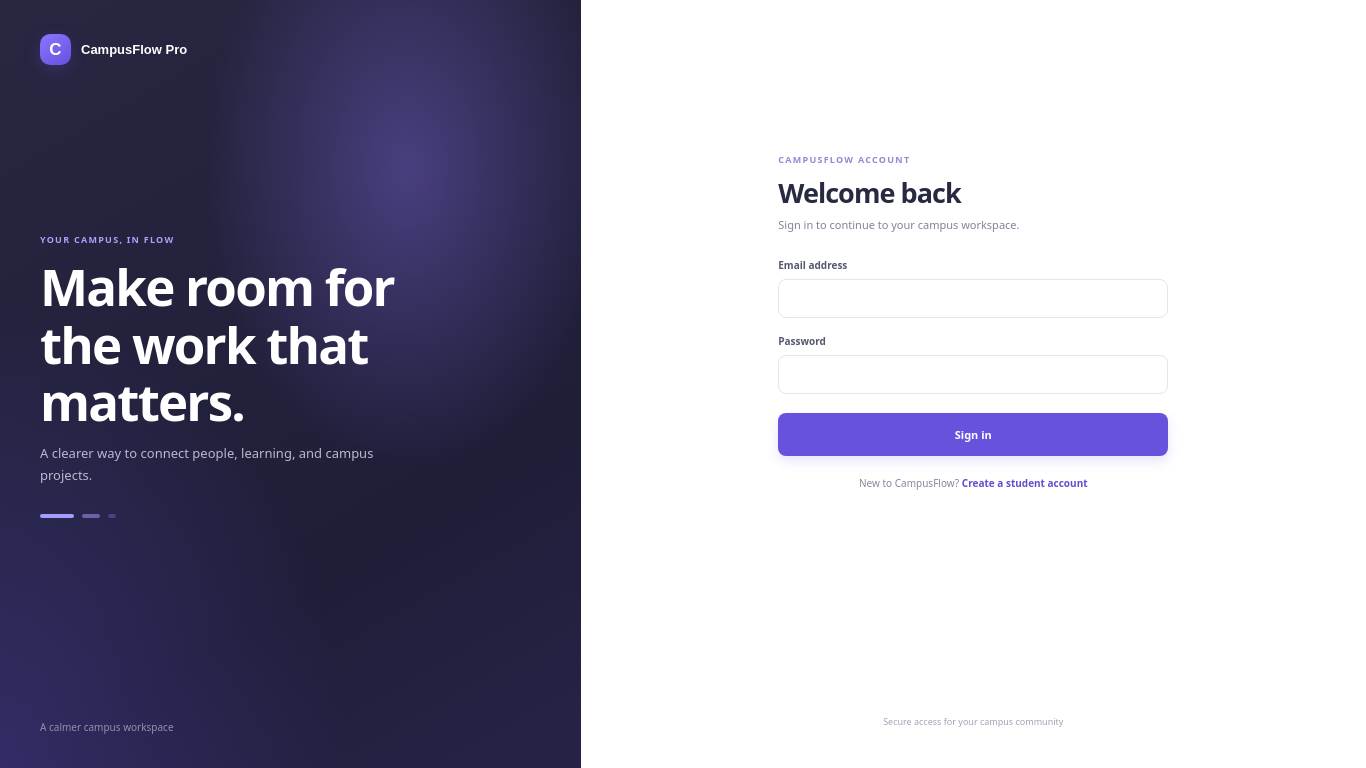
Test: authentication pages and session › shows login failure feedback without entering an authenticated session
The image size is (1366, 768).
In the field labelled "Email address": (973, 298) top-left (778, 279), bottom-right (1168, 318), type "asha@example.edu"
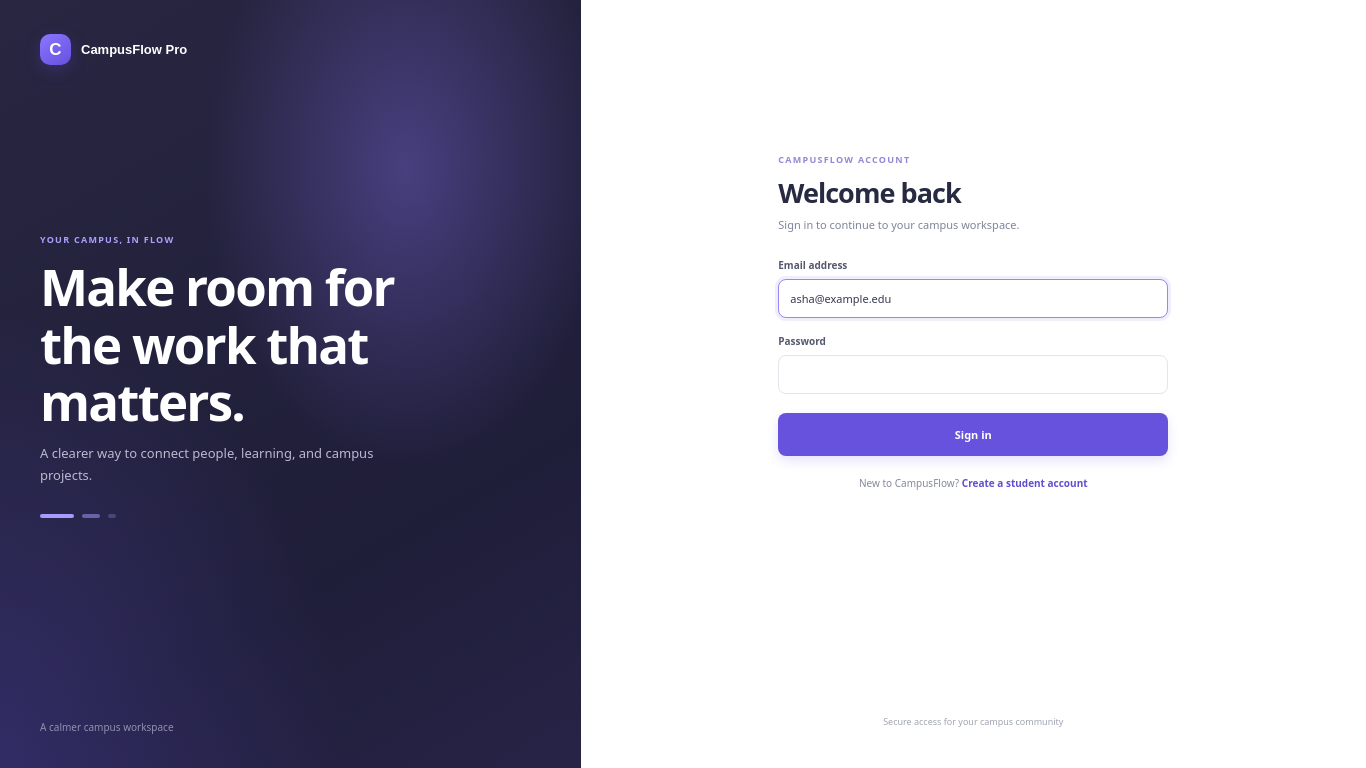
In the password field labelled "Password": (973, 374) top-left (778, 355), bottom-right (1168, 394), type "wrong-password"
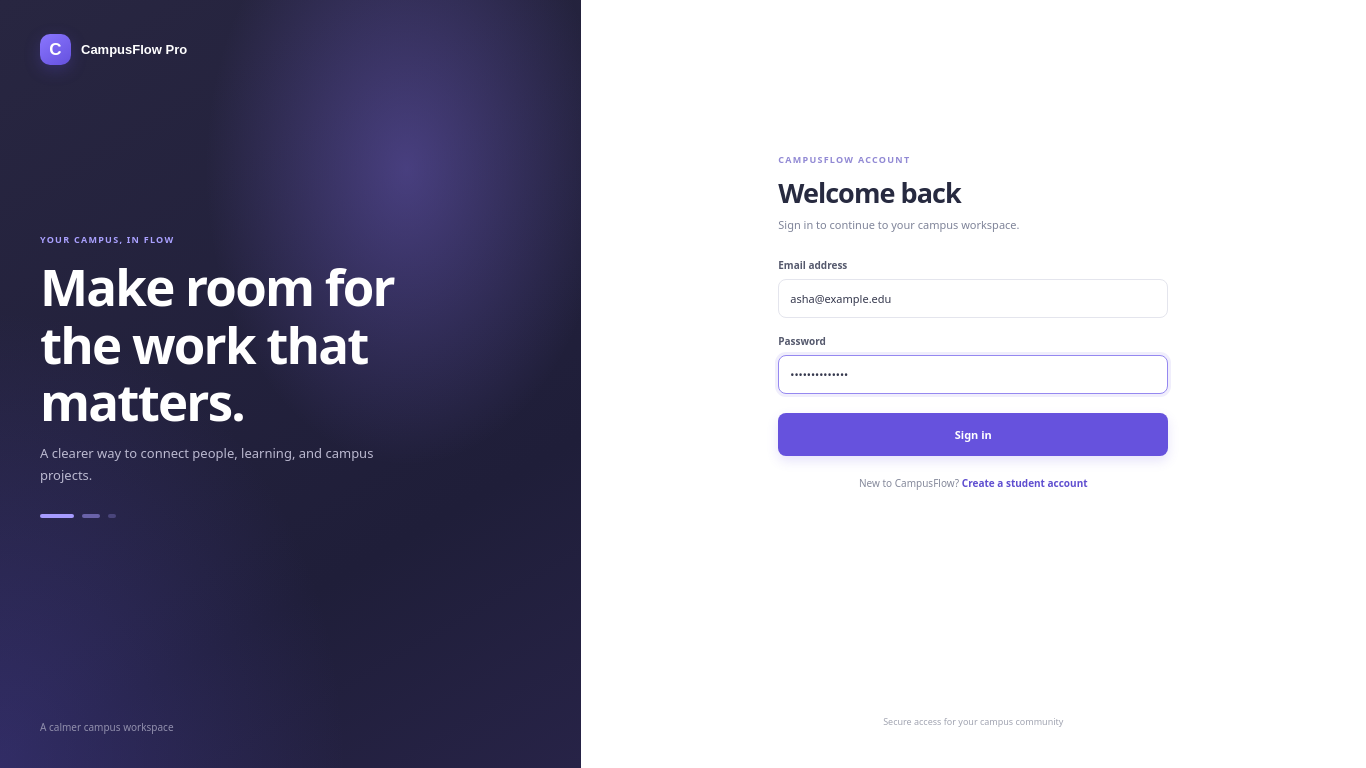
Click the button "Sign in": click(973, 434) top-left (778, 413), bottom-right (1168, 456)
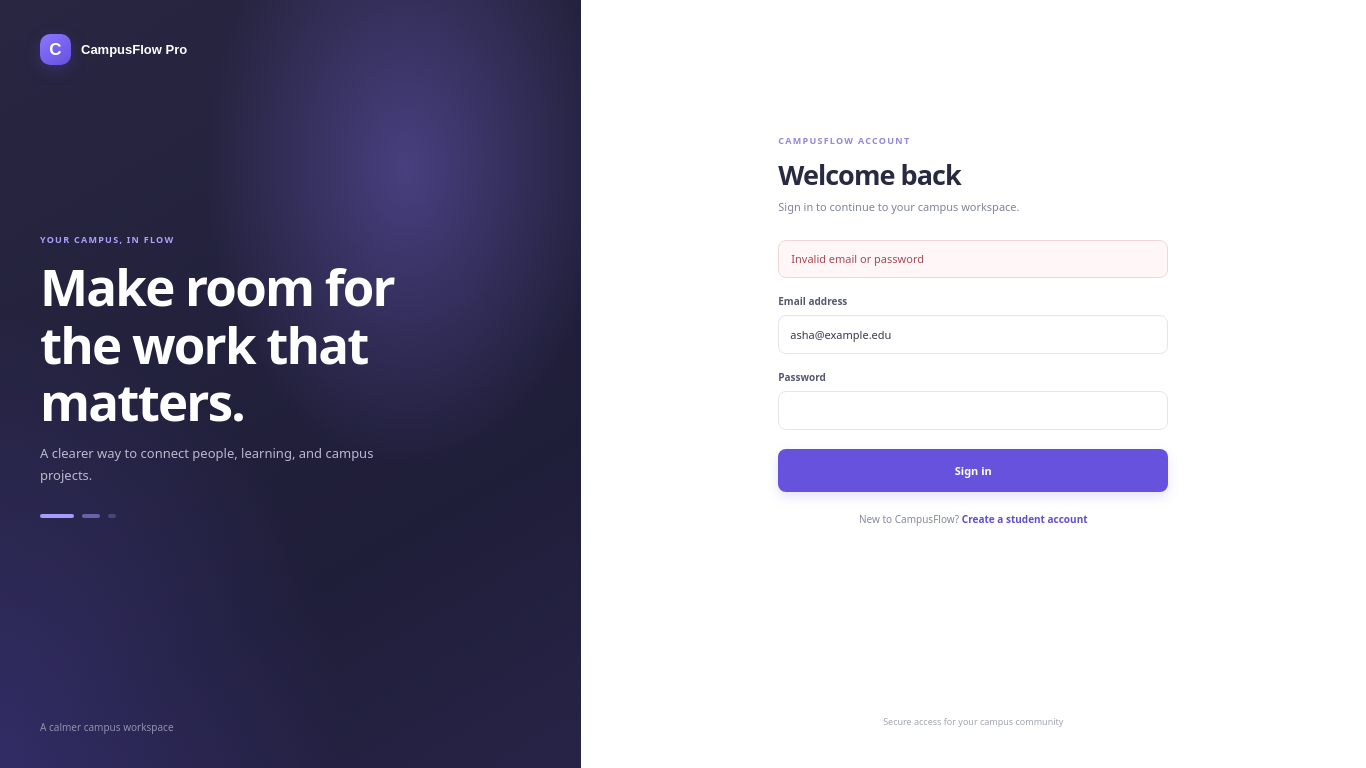
expect the message reads "Invalid email or password": met, box top-left (791, 251), bottom-right (924, 266)
